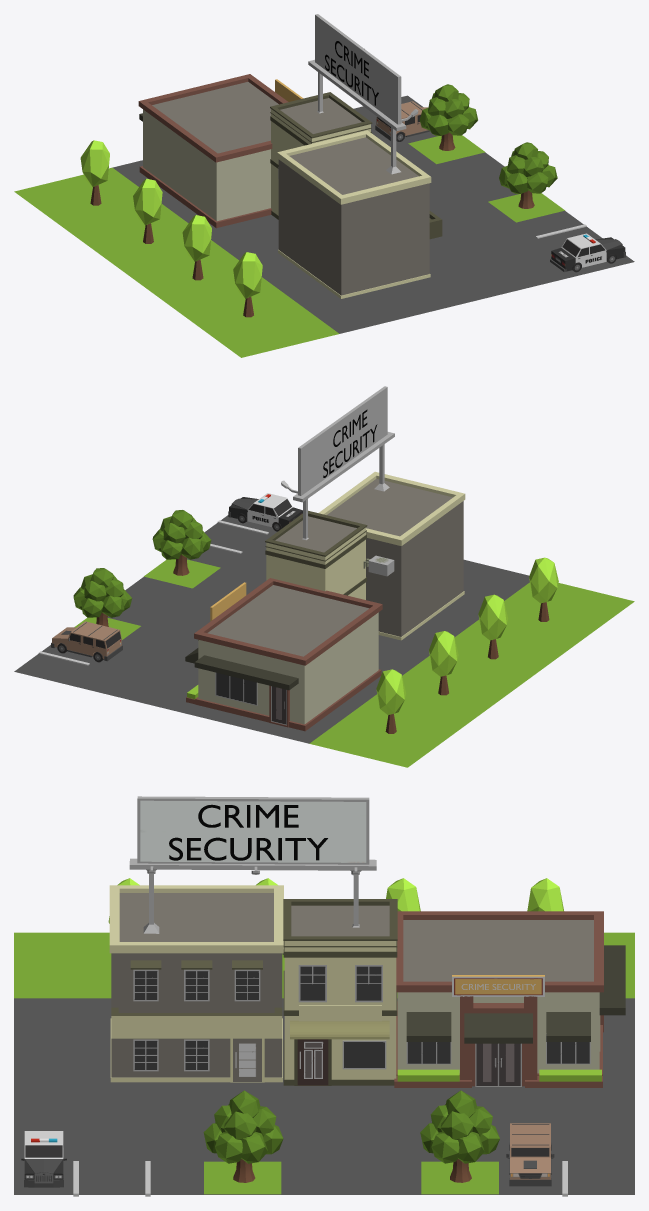
Rendered from crimesecurity.gltf.
3 views of the same model, one above another, from view 1: azimuth 30°, elevation 25°; view 2: azimuth 150°, elevation 25°; view 3: azimuth 270°, elevation 25° (orthographic). The views are drawn at different scales.
Parts seen in each view (by area): view 1: Road Tile_Plane.003, Building_Fast Food_Cube.006, Natures_Grass Tile_Plane.010, Building_Pizza_Cube.012, Props_BillBoard_large_Cube.528, Building_Restaurant_Cube.014, Natures_Big Tree_Mesh.008, Natures_Big Tree_Mesh.001, Vehicle_Police Car_Cube.036, Natures_Bush_01_Cylinder.001, Natures_Bush_01_Cylinder.002, Natures_Bush_01_Cylinder (+5 smaller); view 2: Road Tile_Plane.003, Building_Pizza_Cube.012, Natures_Grass Tile_Plane.010, Building_Fast Food_Cube.006, Building_Restaurant_Cube.014, Props_BillBoard_large_Cube.528, Natures_Big Tree_Mesh.008, Natures_Big Tree_Mesh.001, Vehicle_SUV_Cube.096, Vehicle_Police Car_Cube.036, Natures_Bush_01_Cylinder.002, Natures_Bush_01_Cylinder.003 (+4 smaller); view 3: Road Tile_Plane.003, Building_Pizza_Cube.012, Building_Fast Food_Cube.006, Building_Restaurant_Cube.014, Props_BillBoard_large_Cube.528, Natures_Grass Tile_Plane.010, Natures_Big Tree_Mesh.008, Natures_Big Tree_Mesh.001, Vehicle_SUV_Cube.096, Text, Vehicle_Police Car_Cube.036, Natures_Grass Tile Small_Plane.010 (+3 smaller).
Part boxes in pixels (x1,y1,x2,y2): Road Tile_Plane.003: (112, 95, 634, 333); Building_Fast Food_Cube.006: (277, 130, 442, 298); Natures_Grass Tile_Plane.010: (14, 167, 339, 357); Building_Pizza_Cube.012: (138, 74, 303, 228); Props_BillBoard_large_Cube.528: (308, 14, 418, 174); Building_Restaurant_Cube.014: (270, 92, 372, 219); Natures_Big Tree_Mesh.008: (499, 142, 557, 208); Natures_Big Tree_Mesh.001: (419, 84, 477, 150); Vehicle_Police Car_Cube.036: (550, 233, 625, 272); Natures_Bush_01_Cylinder.001: (233, 252, 262, 317); Natures_Bush_01_Cylinder.002: (182, 215, 211, 280); Natures_Bush_01_Cylinder: (80, 140, 109, 205); Road Tile_Plane.003: (14, 515, 529, 743); Building_Pizza_Cube.012: (185, 578, 382, 731); Natures_Grass Tile_Plane.010: (309, 582, 634, 767); Building_Fast Food_Cube.006: (318, 471, 465, 640); Building_Restaurant_Cube.014: (265, 510, 367, 599); Props_BillBoard_large_Cube.528: (281, 386, 394, 540); Natures_Big Tree_Mesh.008: (152, 510, 211, 575); Natures_Big Tree_Mesh.001: (73, 568, 132, 626); Vehicle_SUV_Cube.096: (51, 621, 122, 662); Vehicle_Police Car_Cube.036: (228, 493, 302, 531); Natures_Bush_01_Cylinder.002: (478, 594, 508, 659); Natures_Bush_01_Cylinder.003: (429, 631, 458, 695); Road Tile_Plane.003: (14, 998, 634, 1194); Building_Pizza_Cube.012: (394, 911, 625, 1087); Building_Fast Food_Cube.006: (109, 885, 283, 1082); Building_Restaurant_Cube.014: (283, 899, 397, 1085); Props_BillBoard_large_Cube.528: (129, 796, 376, 933); Natures_Grass Tile_Plane.010: (14, 932, 634, 998); Natures_Big Tree_Mesh.008: (203, 1090, 283, 1182); Natures_Big Tree_Mesh.001: (420, 1090, 499, 1182); Vehicle_SUV_Cube.096: (506, 1123, 554, 1186); Text: (169, 804, 327, 860); Vehicle_Police Car_Cube.036: (21, 1131, 66, 1187); Natures_Grass Tile Small_Plane.010: (421, 1161, 498, 1194).
Size of the model in its own units: 40.15 by 19.35 by 40.
Materials: 22 (20 with a texture image).
